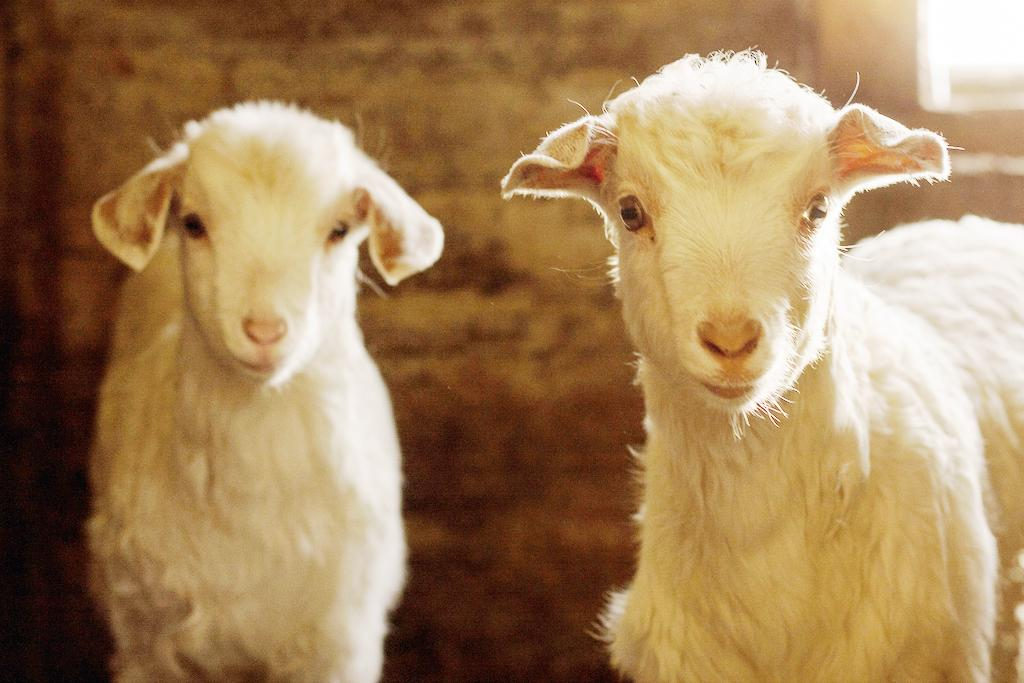Sheep: (504, 53, 1024, 682), (90, 99, 444, 681)
